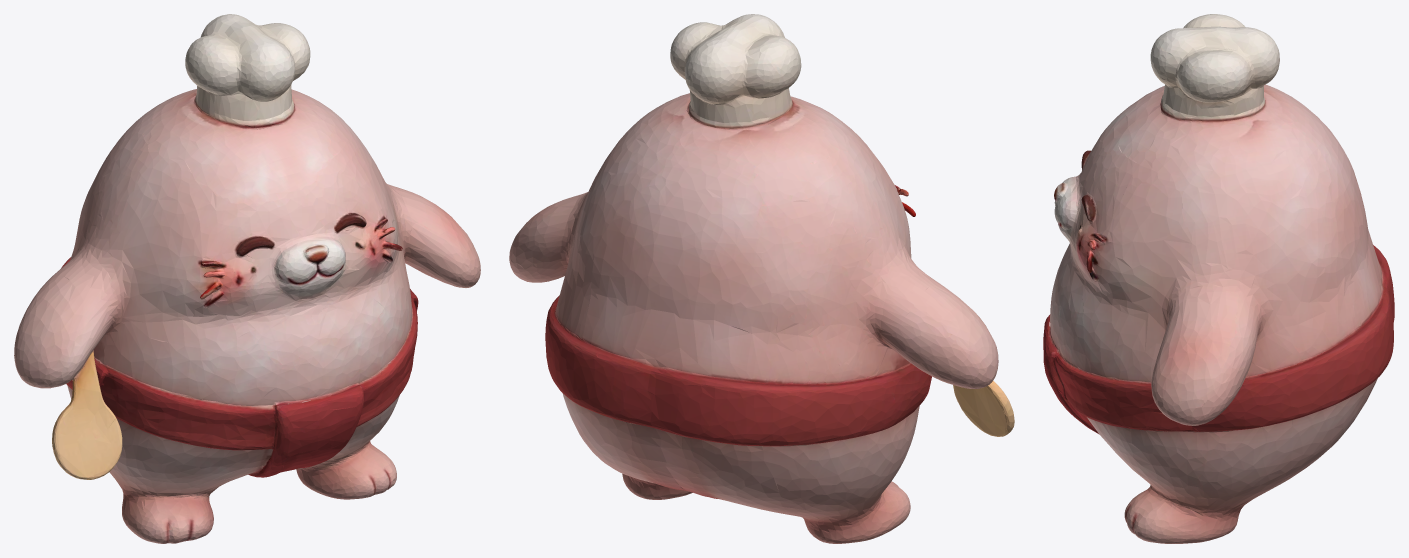
The model's file is mochi.glb.
The picture shows the model from 3 angles, left to right: view 1: azimuth 30°, elevation 25°; view 2: azimuth 150°, elevation 25°; view 3: azimuth 270°, elevation 25°; orthographic projection. The views are drawn at different scales.
Parts seen in each view (by area): view 1: tmp9c21x2z8.ply; view 2: tmp9c21x2z8.ply; view 3: tmp9c21x2z8.ply.
Part boxes in pixels (x1,y1,x2,y2): tmp9c21x2z8.ply: [14, 14, 480, 543]; tmp9c21x2z8.ply: [509, 14, 1014, 543]; tmp9c21x2z8.ply: [1043, 14, 1394, 543].
Bounding box in the file's own units: 1.99 × 1.95 × 1.34.
Materials: 1 (1 with a texture image).
